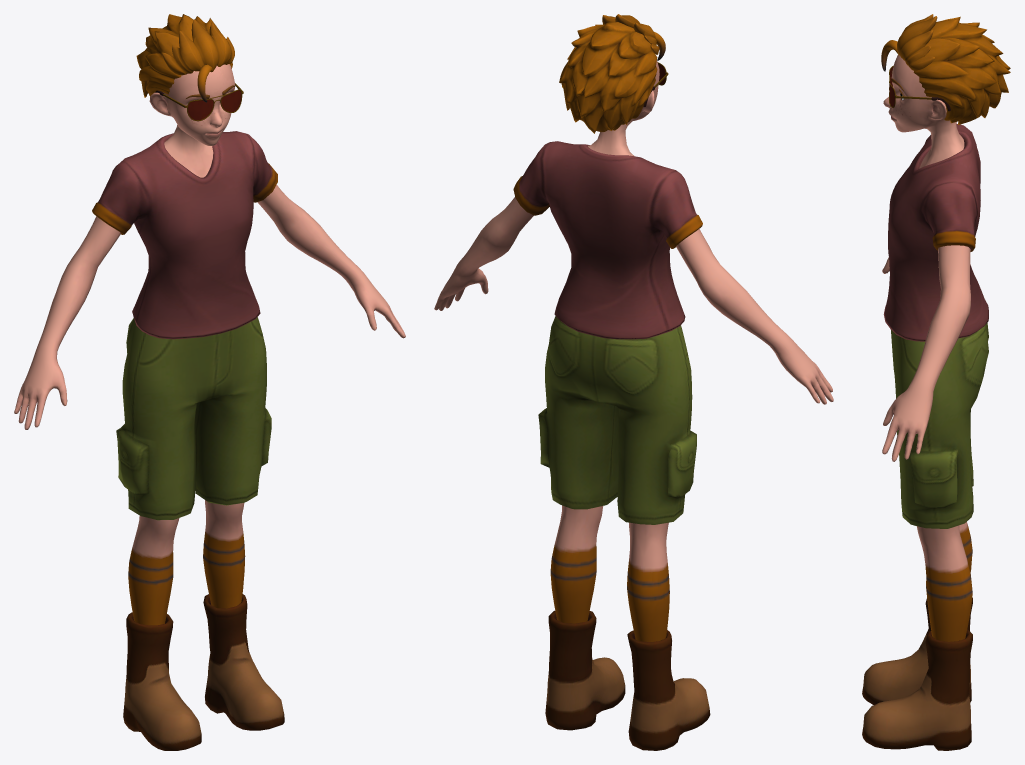
Rendered from James_Mesh.obj.
3 views of the same model, side by side, from view 1: azimuth 30°, elevation 25°; view 2: azimuth 150°, elevation 25°; view 3: azimuth 270°, elevation 25° (orthographic). The views are drawn at different scales.
Parts seen in each view (by area): view 1: James_Mesh_0; view 2: James_Mesh_0; view 3: James_Mesh_0.
Boxes of the visible parts, x1,y1,x2,y2 form: James_Mesh_0: (14, 14, 405, 750); James_Mesh_0: (434, 14, 833, 750); James_Mesh_0: (862, 14, 1010, 750).
Bounding box in the file's own units: 1.06 × 1.86 × 0.3544.
1 material, 1 textured.
